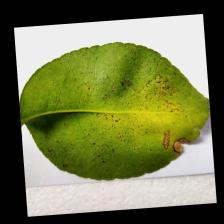canker: (120, 73, 212, 167)
